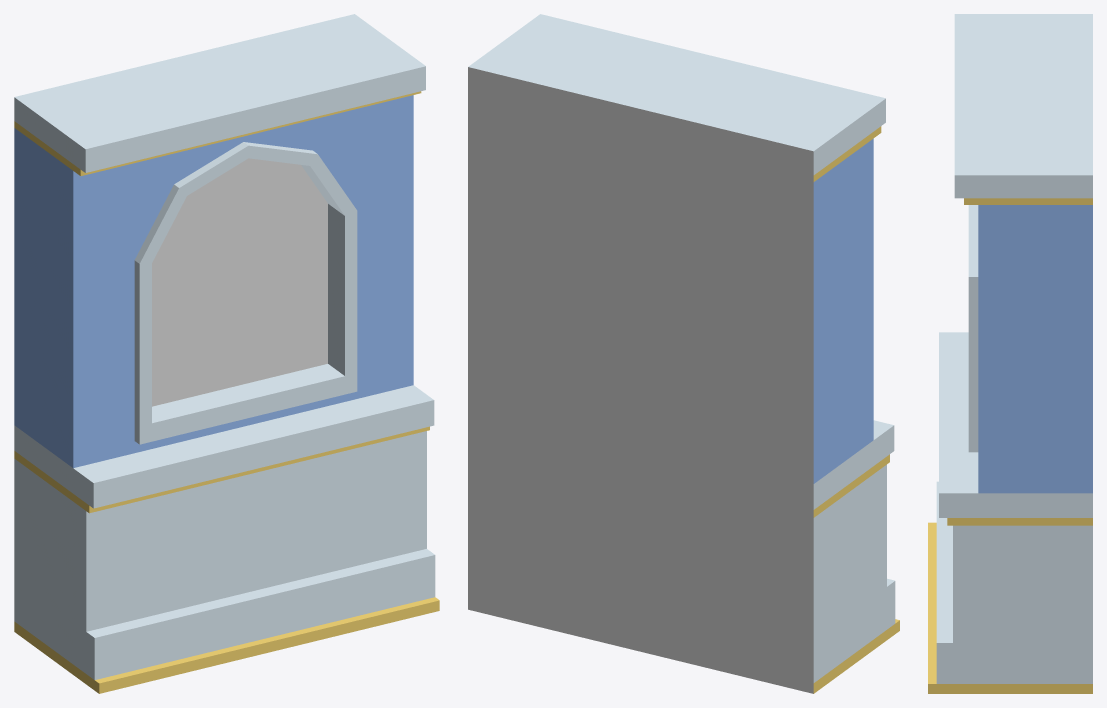
File: stage4_2_wall2.fbx
The picture shows the model from 3 angles, left to right: view 1: azimuth 30°, elevation 25°; view 2: azimuth 150°, elevation 25°; view 3: azimuth 270°, elevation 25°; orthographic projection. The views are drawn at different scales.
Parts seen in each view (by area): view 1: wall1; view 2: wall1; view 3: wall1.
Boxes of the visible parts, <box> form: wall1: <box>14,14,439,693</box>; wall1: <box>468,14,899,693</box>; wall1: <box>928,14,1092,693</box>.
Size of the model in its own units: 200 by 300 by 86.45.
